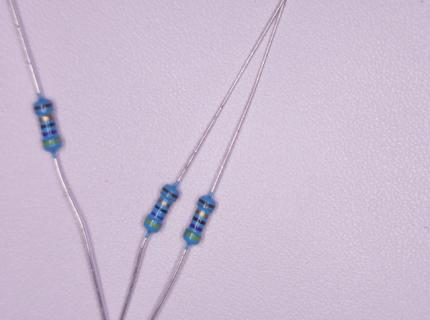Black band: (154, 205, 167, 215), (193, 217, 205, 226), (41, 123, 56, 129)
Brown band: (162, 187, 177, 199), (200, 199, 214, 209), (34, 104, 52, 110)
Gold band: (157, 197, 171, 208), (195, 209, 209, 219), (38, 115, 54, 122)
Violet band: (150, 211, 164, 221), (189, 223, 204, 232), (42, 129, 58, 137)
Yellow band: (144, 218, 161, 230), (184, 230, 201, 242), (42, 138, 61, 147)
